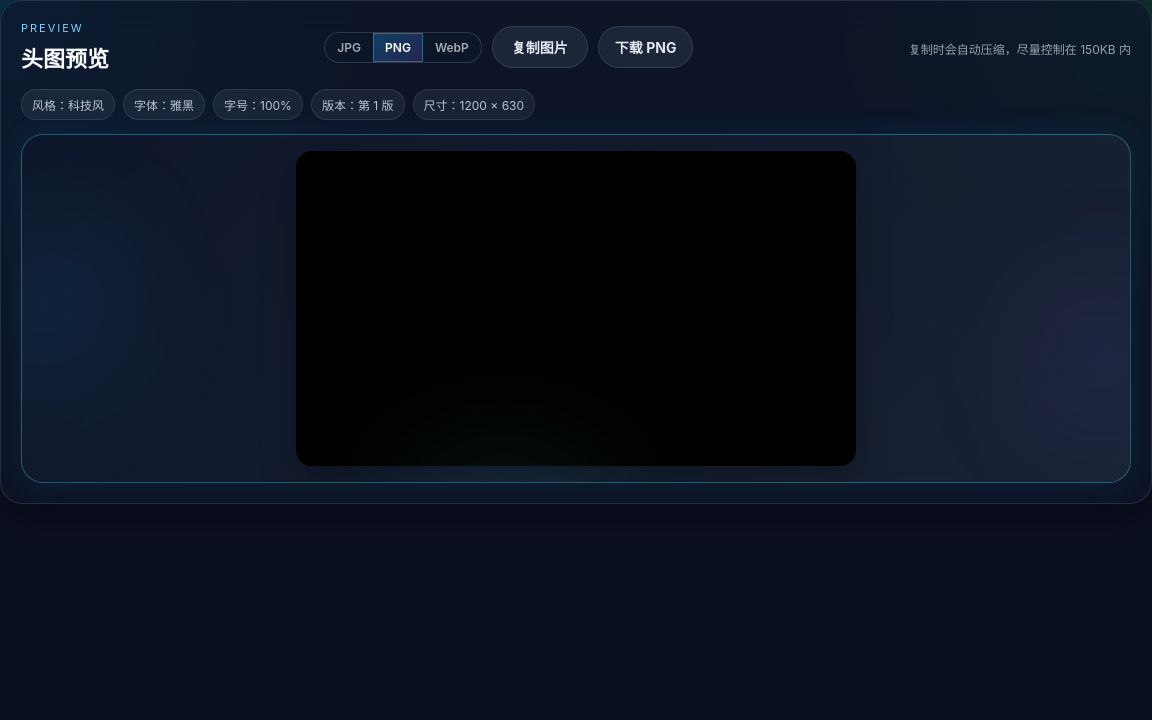
CoverPreview copy action › shows error state when clipboard write fails
Click the button "复制图片". click: (540, 47)
box: [492, 26, 588, 68]
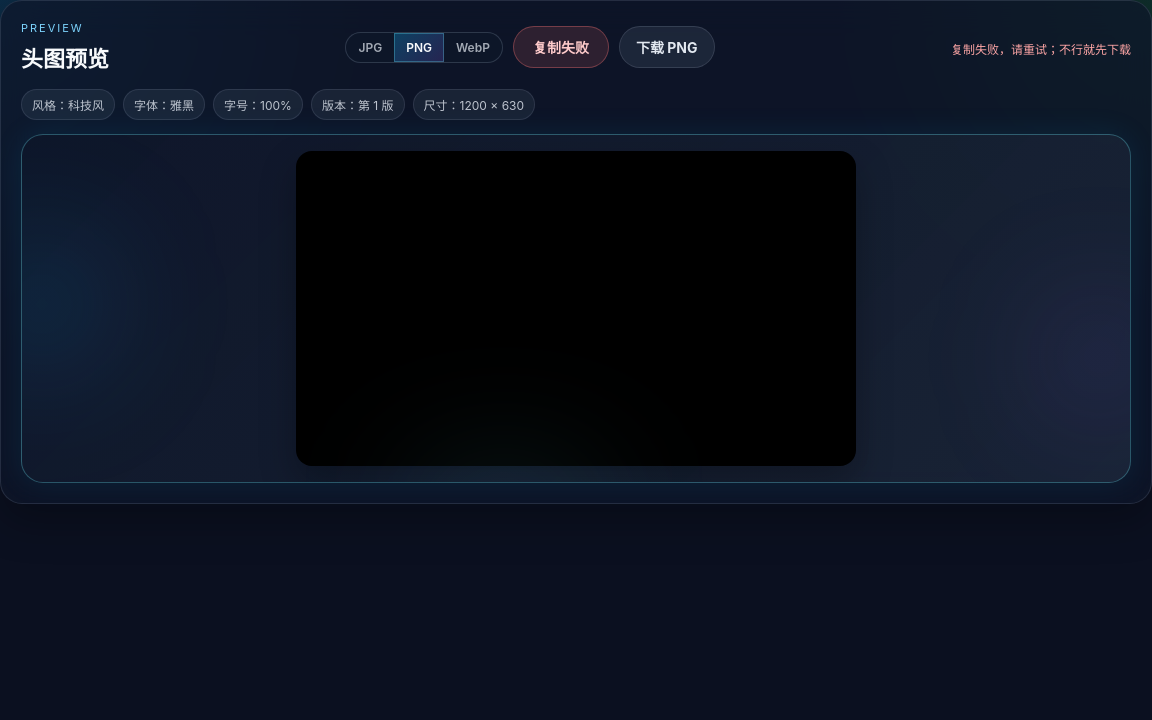
Expected: the button "复制失败" is shown, [513, 26, 609, 68]
Expected: the text "复制失败，请重试；不行就先下载" is shown, [951, 40, 1131, 56]
